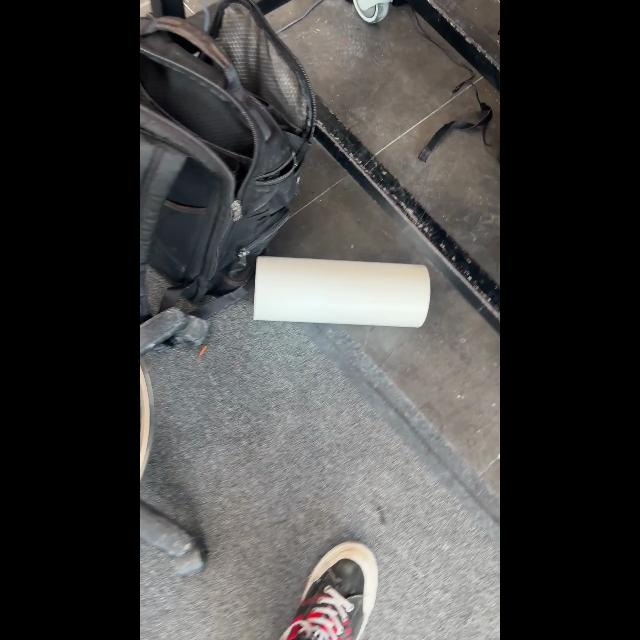CORAL: (253, 255, 432, 329)
